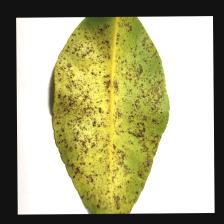canker: (63, 62, 155, 167)
